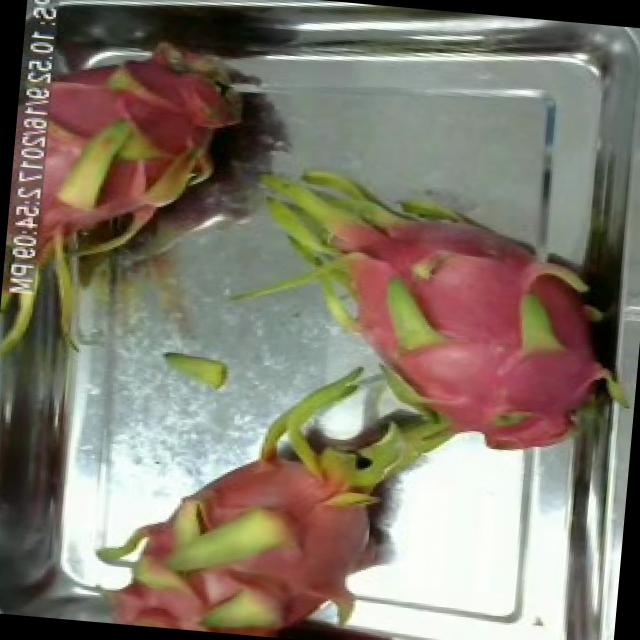Fruit: (468, 396, 586, 470)
